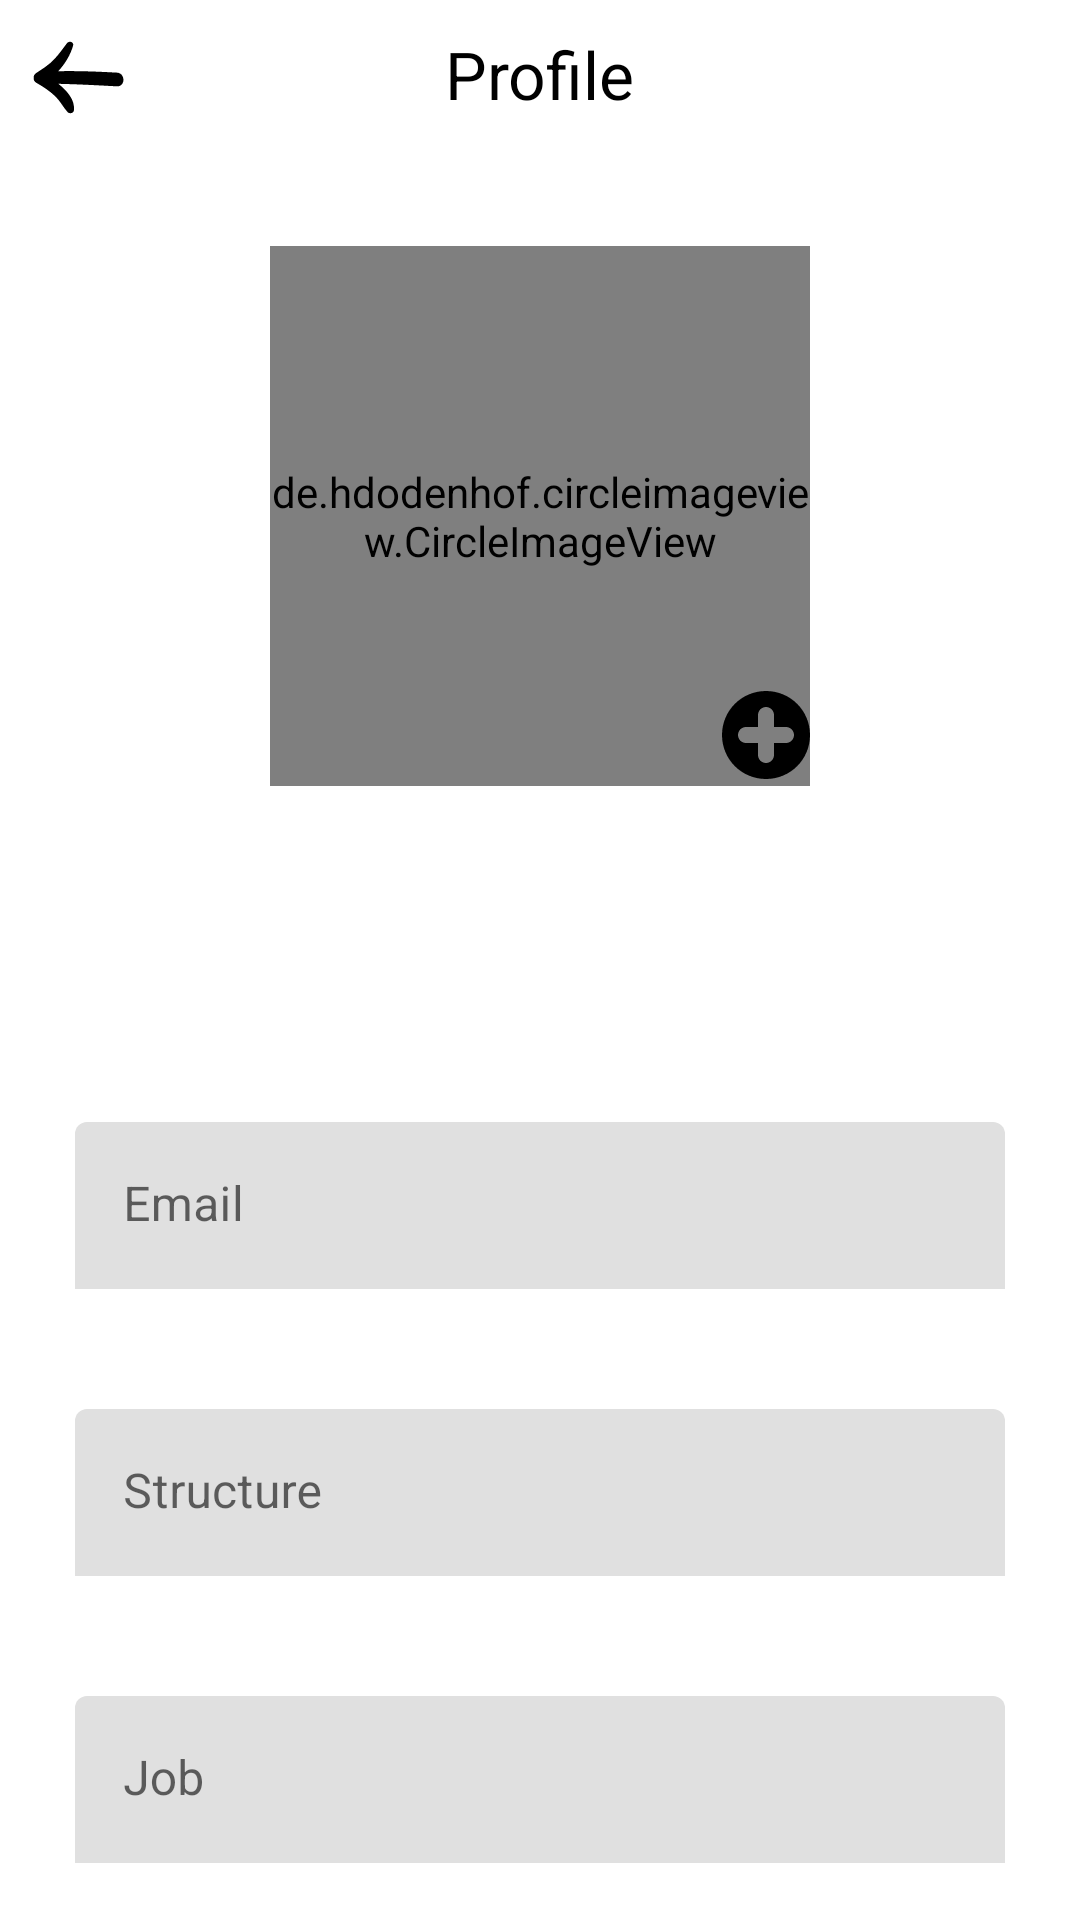

Icons on this 1080 × 1920 Android screen, each with the point to tap as point (x, y):
add photo: point (766, 735)
back: point (78, 77)
